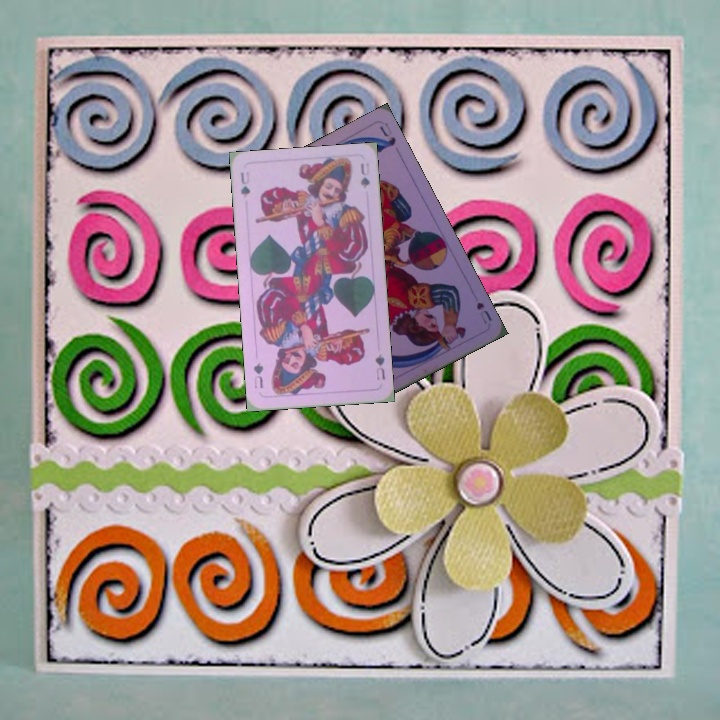GU: (371, 349, 388, 383), (236, 168, 253, 199)
SU: (472, 298, 495, 326)
